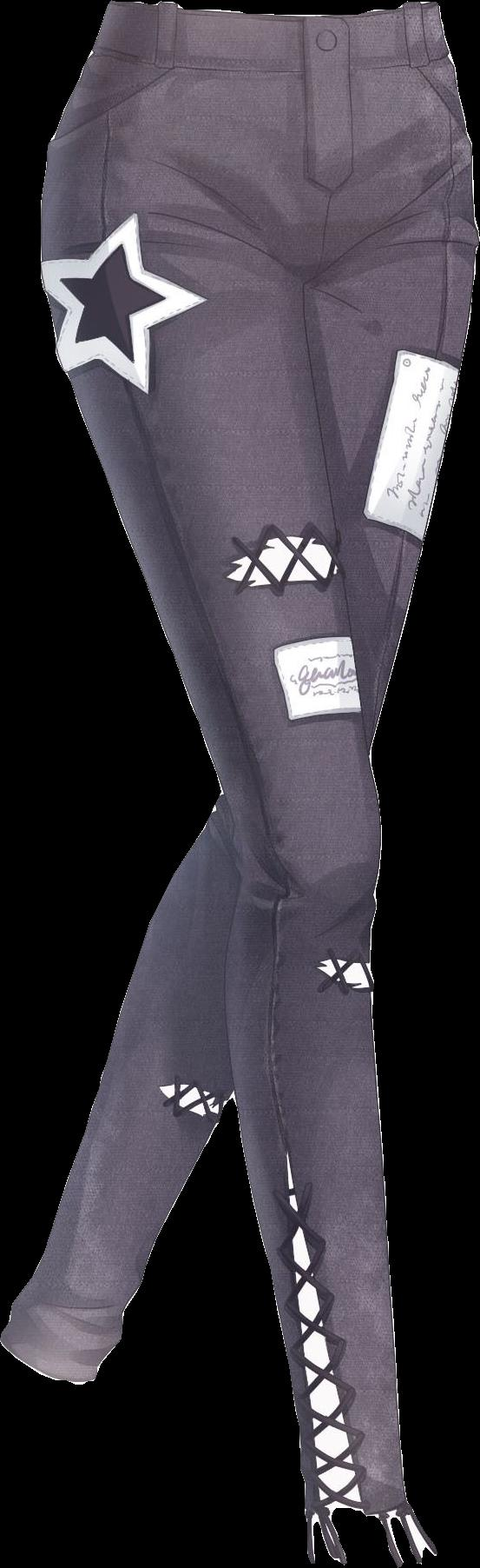Hemline: (0, 1324, 111, 1392), (303, 1491, 420, 1528)
Pantleg: (0, 3, 477, 1385), (41, 3, 412, 1516)
Waistline: (91, 37, 458, 89), (105, 0, 434, 33)
